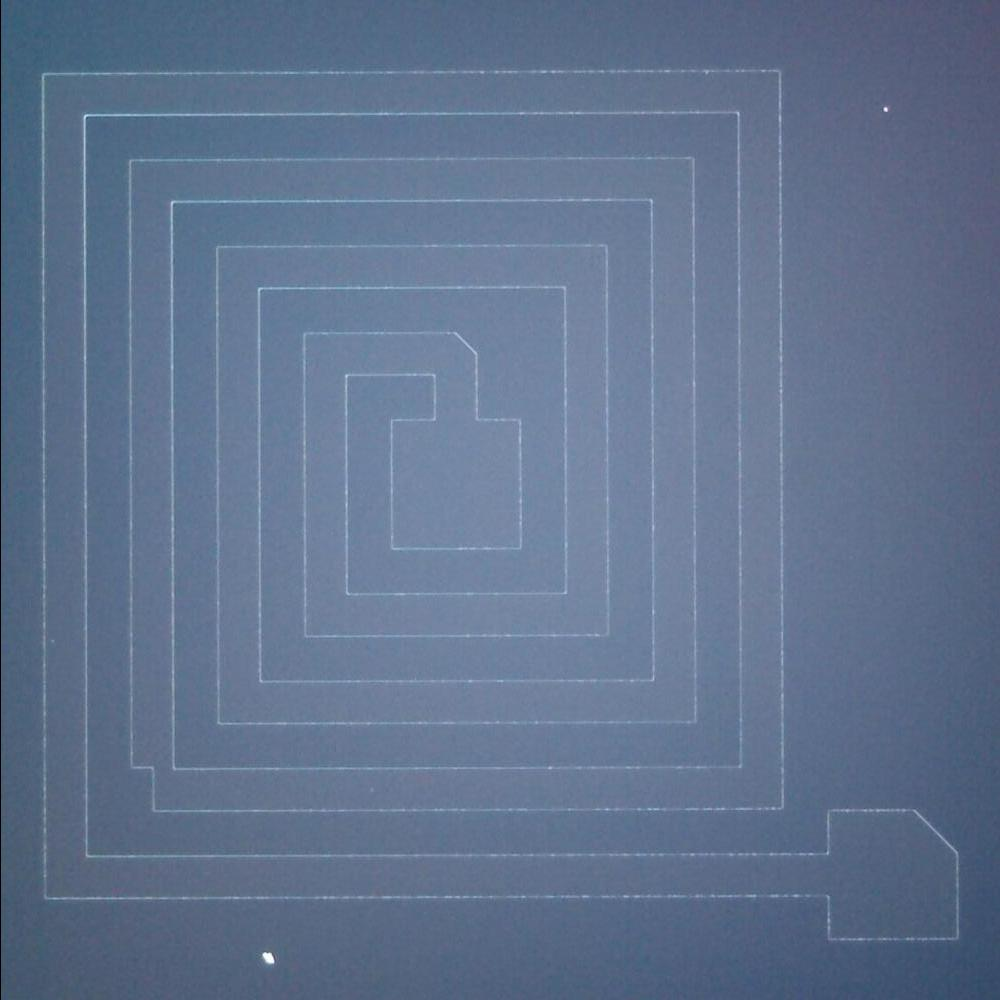dot: (868, 91, 898, 124)
edge circuit: (897, 796, 977, 862), (120, 750, 163, 820), (438, 321, 492, 366)
spot: (248, 942, 284, 974)
